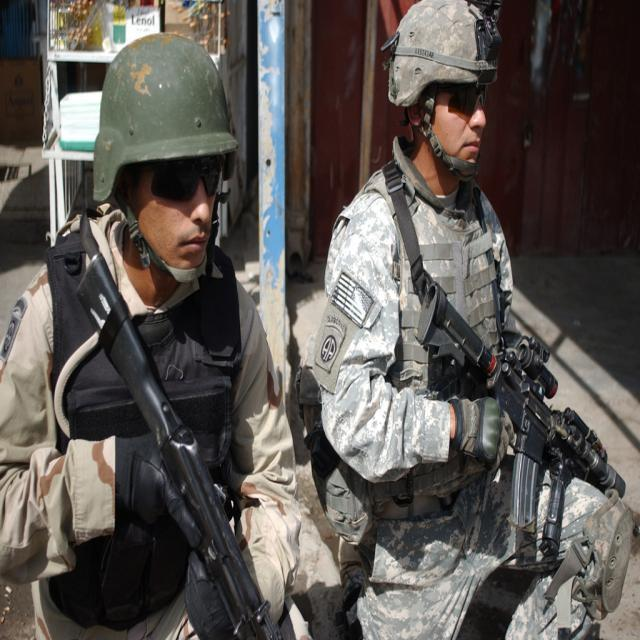weapon: (43, 264, 285, 632), (413, 276, 628, 550)
